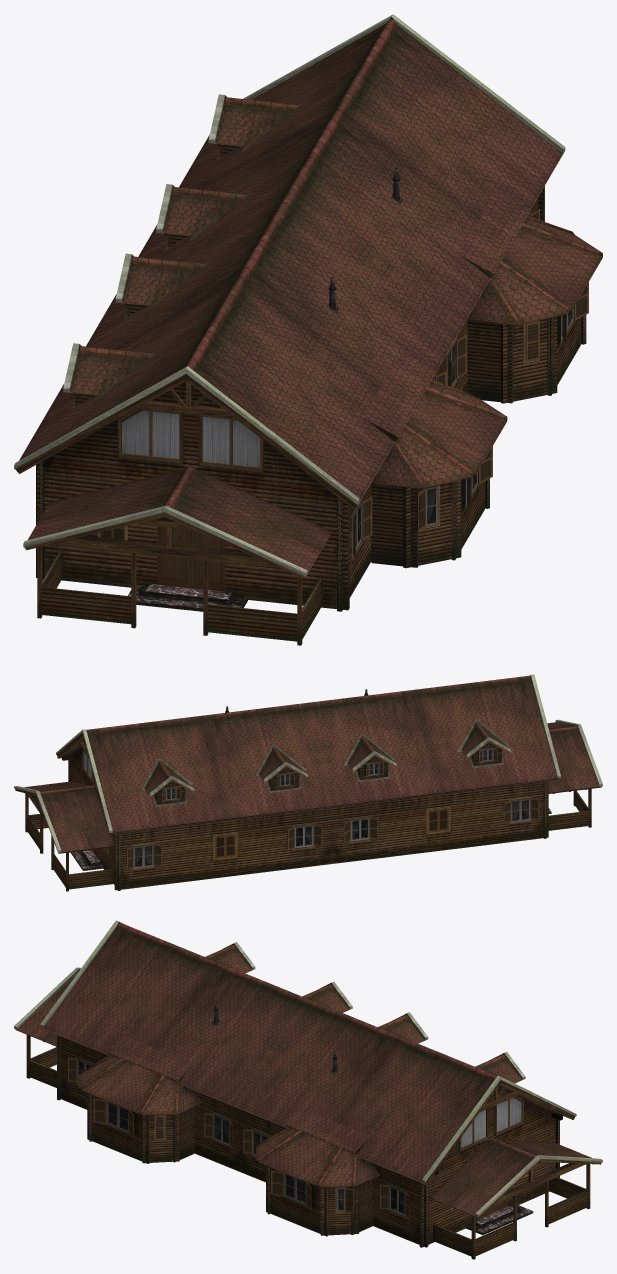
3 views of the same model, one above another, from view 1: azimuth 30°, elevation 25°; view 2: azimuth 150°, elevation 25°; view 3: azimuth 270°, elevation 25° (orthographic). The views are drawn at different scales.
Parts seen in each view (by area): view 1: City_building_014; view 2: City_building_014; view 3: City_building_014.
Boxes of the visible parts, x1,y1,x2,y2 form: City_building_014: (14,14,602,645); City_building_014: (14,674,602,891); City_building_014: (14,920,602,1259).
Size of the model in its own units: 3058 by 3126 by 849.
1 material, 1 textured.
